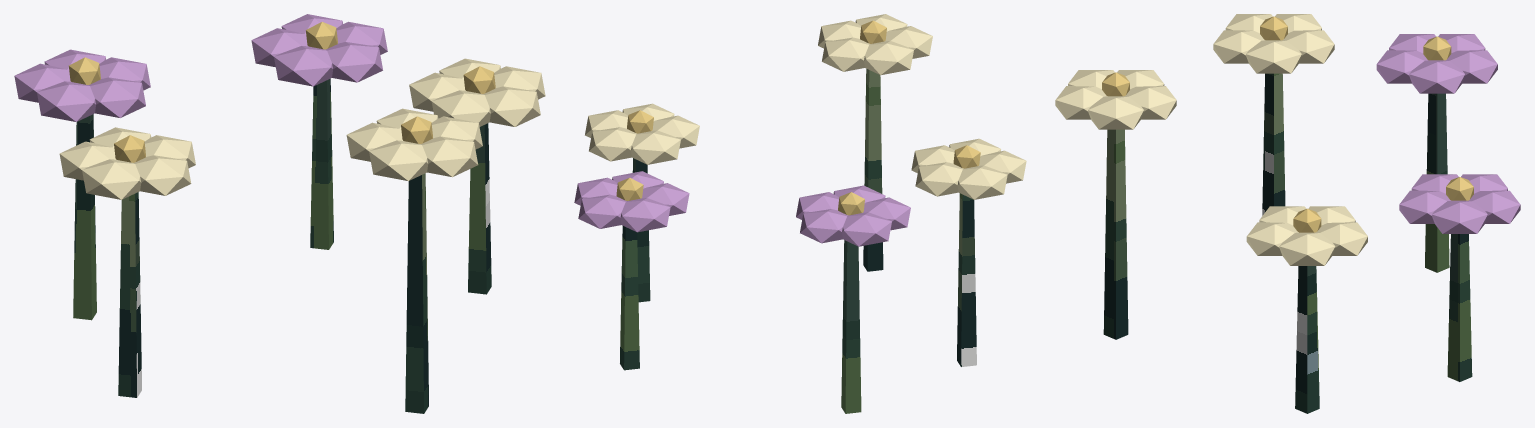
File: enfeite_flores.glb
3 views of the same model, side by side, from view 1: azimuth 30°, elevation 25°; view 2: azimuth 150°, elevation 25°; view 3: azimuth 270°, elevation 25° (orthographic). The views are drawn at different scales.
Parts seen in each view (by area): view 1: bosque_enfeite_flores; view 2: bosque_enfeite_flores; view 3: bosque_enfeite_flores.
Boxes of the visible parts, x1,y1,x2,y2 form: bosque_enfeite_flores: (14,14,545,413); bosque_enfeite_flores: (574,14,1026,413); bosque_enfeite_flores: (1055,14,1520,413).
Bounding box in the file's own units: 0.366 × 0.211 × 0.339.
4 materials, 1 textured.
